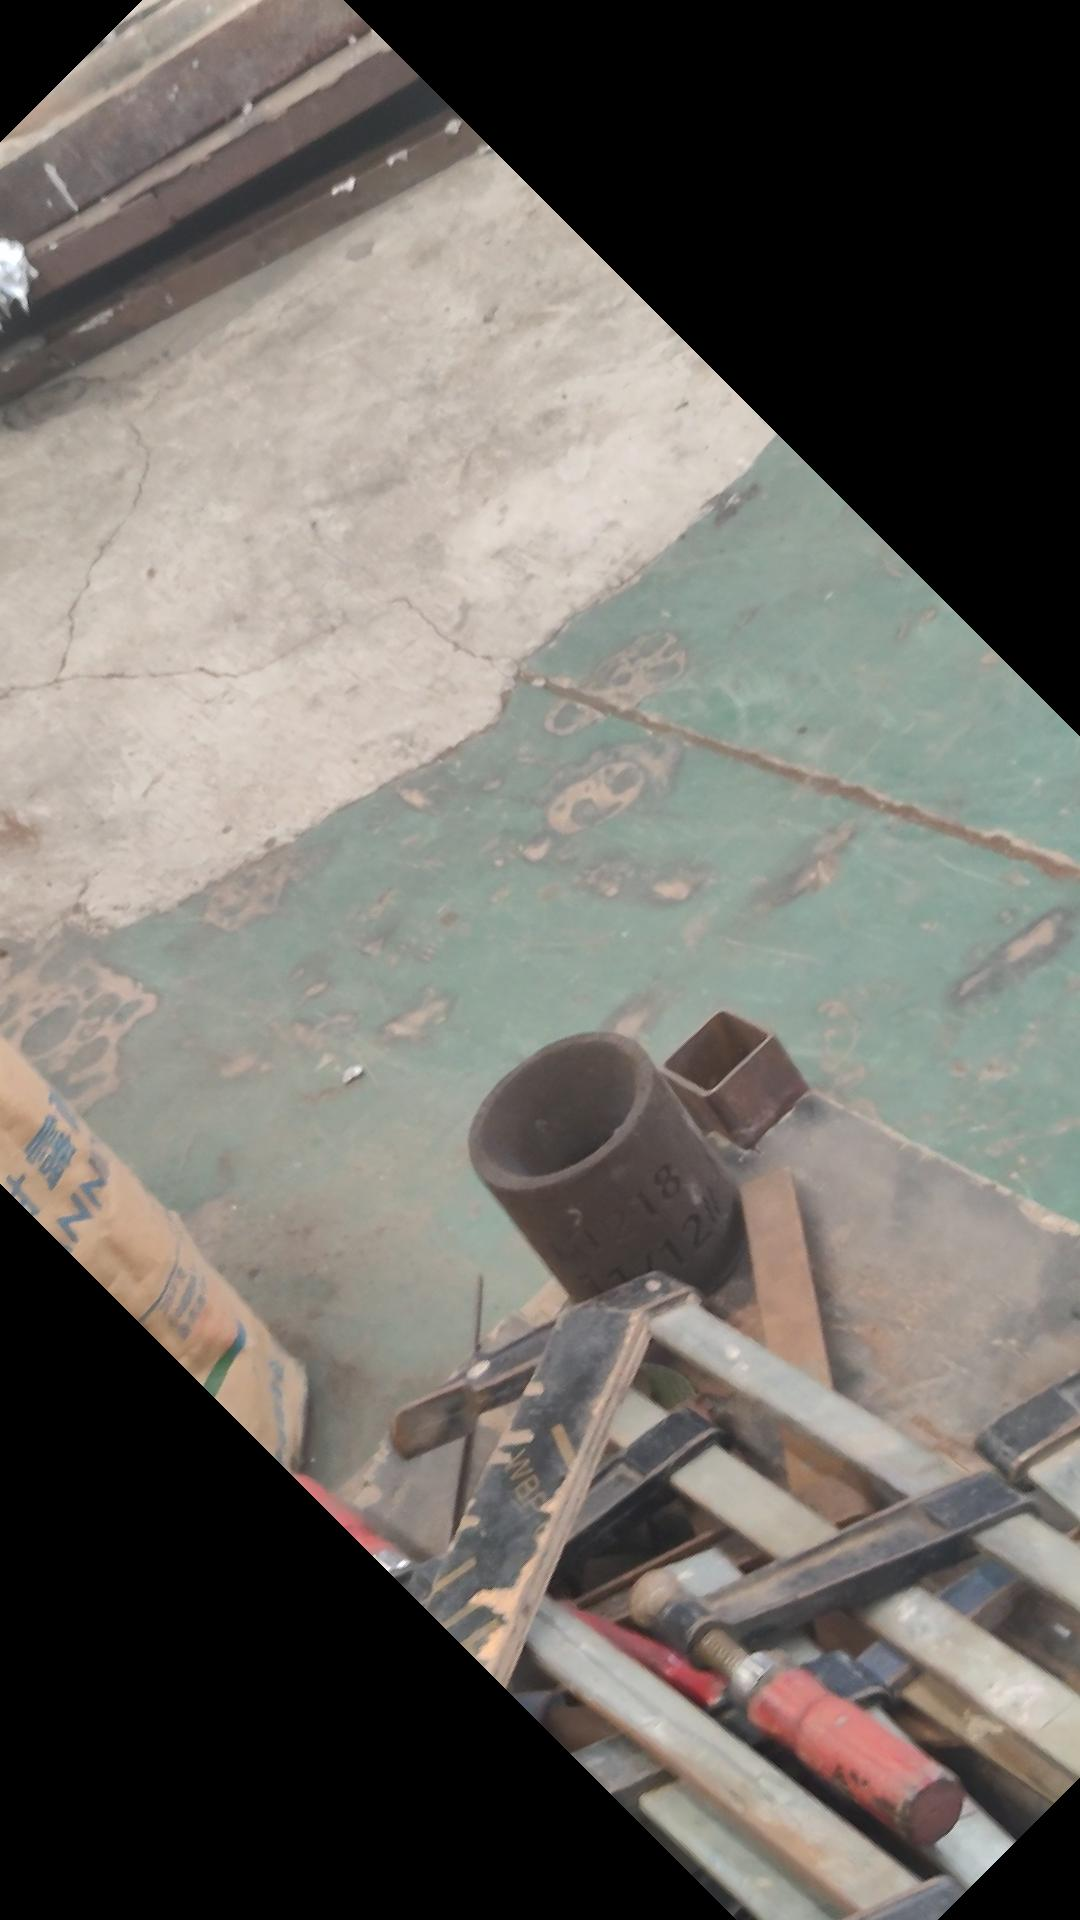pouring hole: (473, 1034, 642, 1178)
